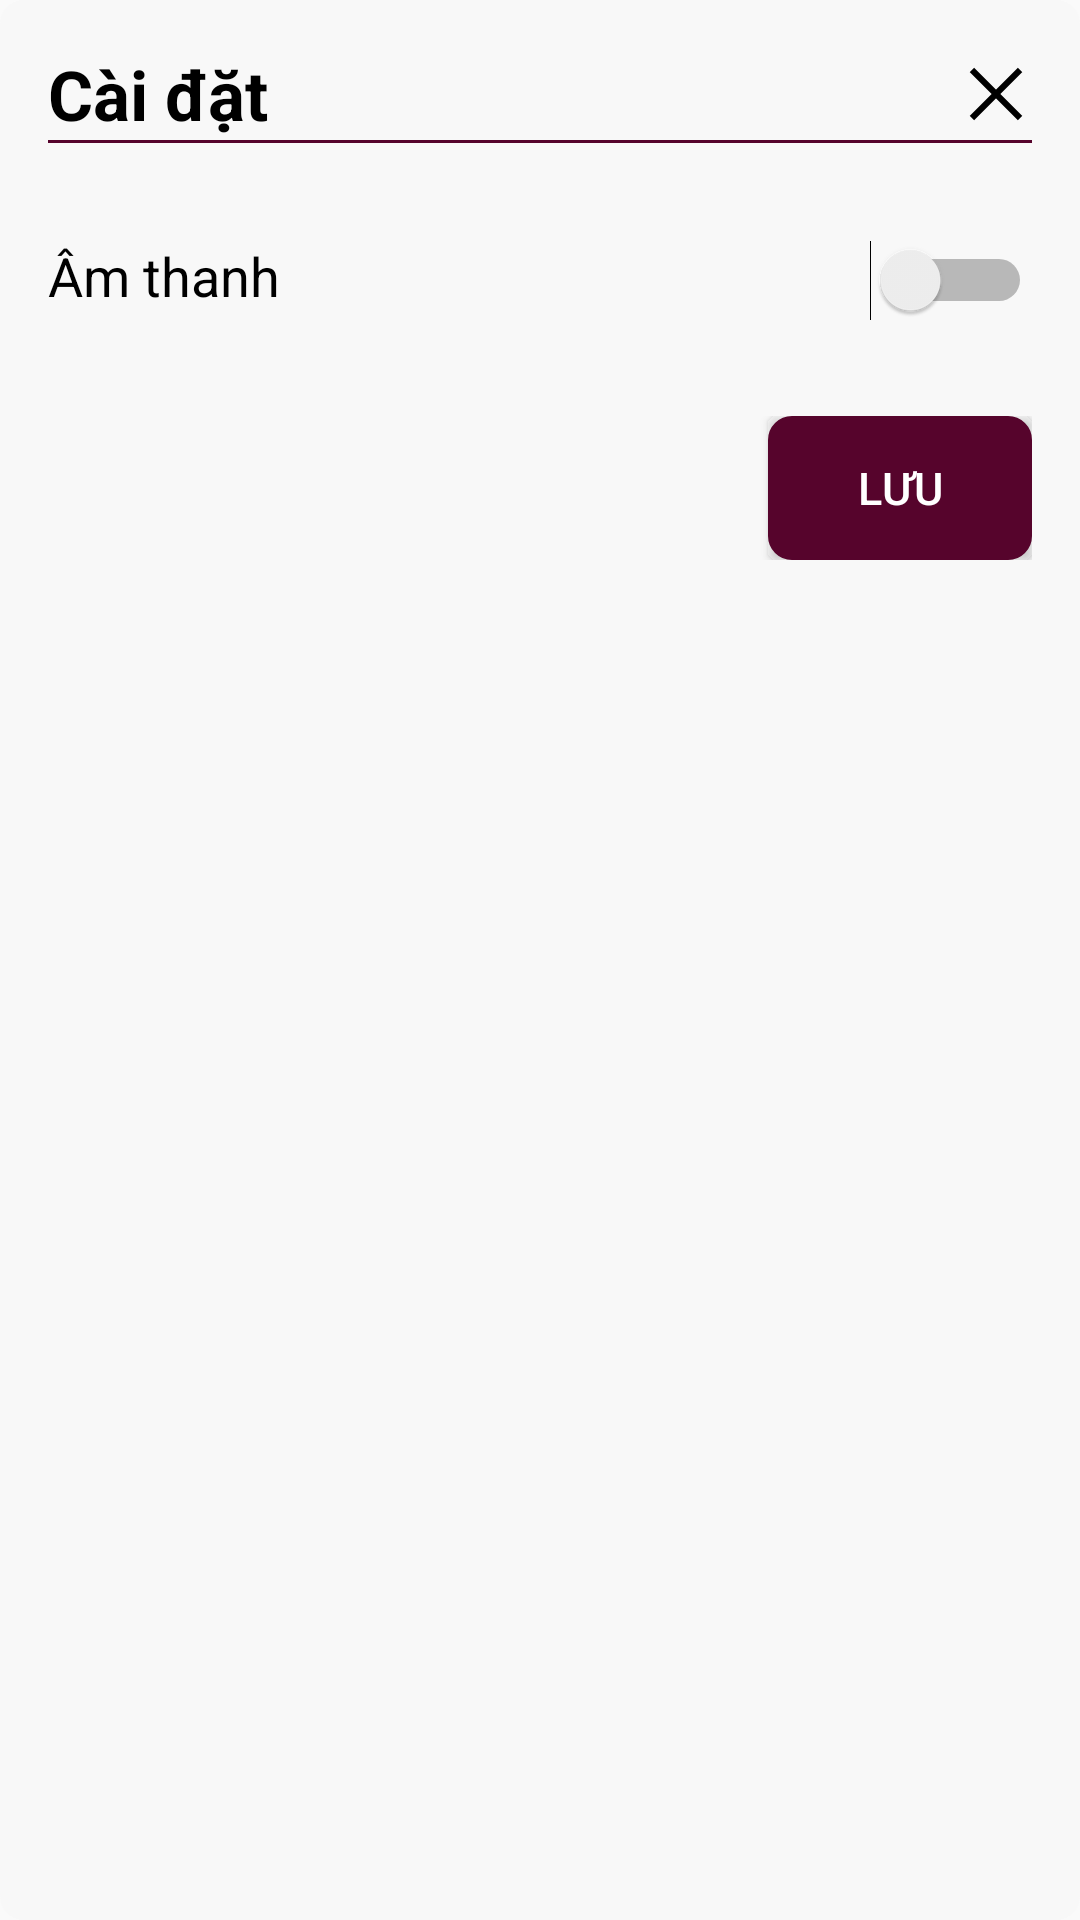

Screen size 1080x1920. Icon name, then its center in pixels as (x,y):
close: (996,94)
